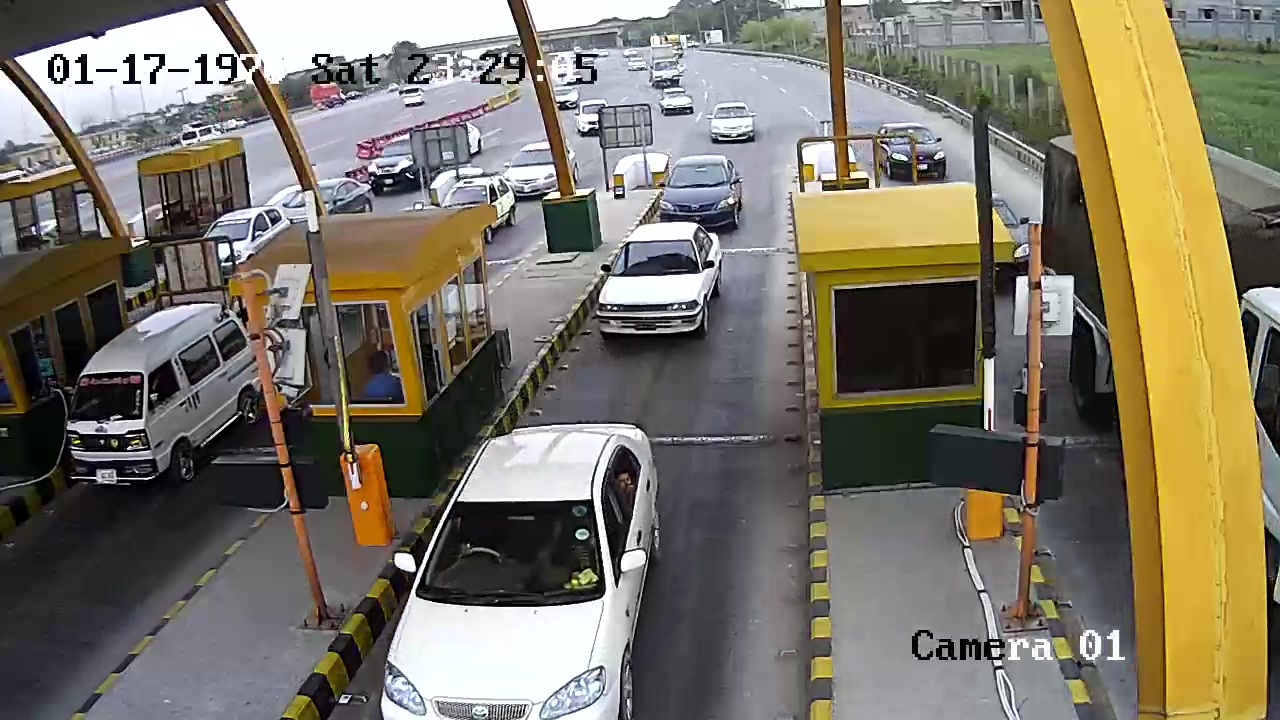F1: (582, 221, 730, 348)
